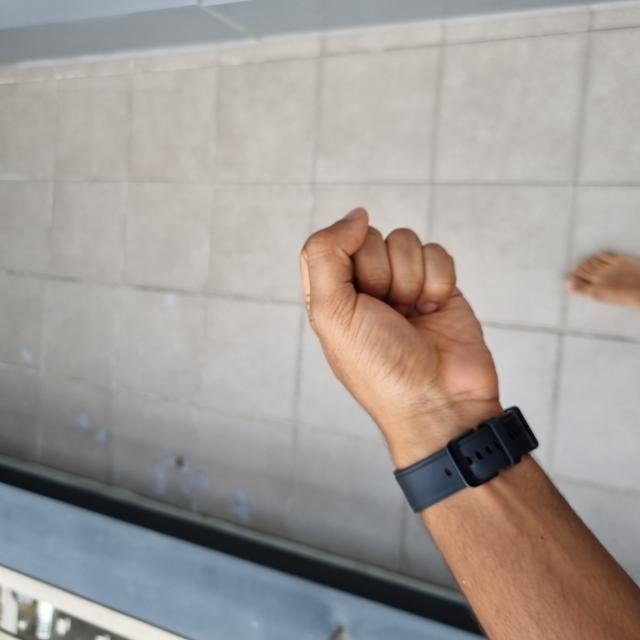Rock: (178, 300, 428, 492)
